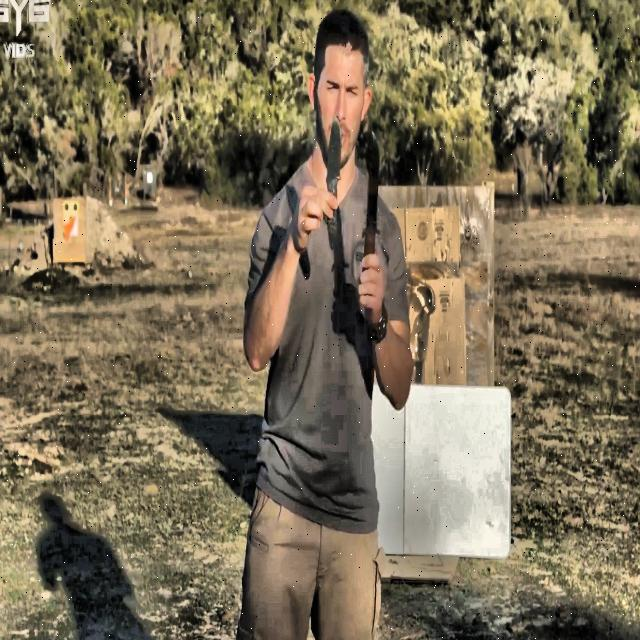knife: (362, 133, 380, 256), (326, 118, 341, 238)
